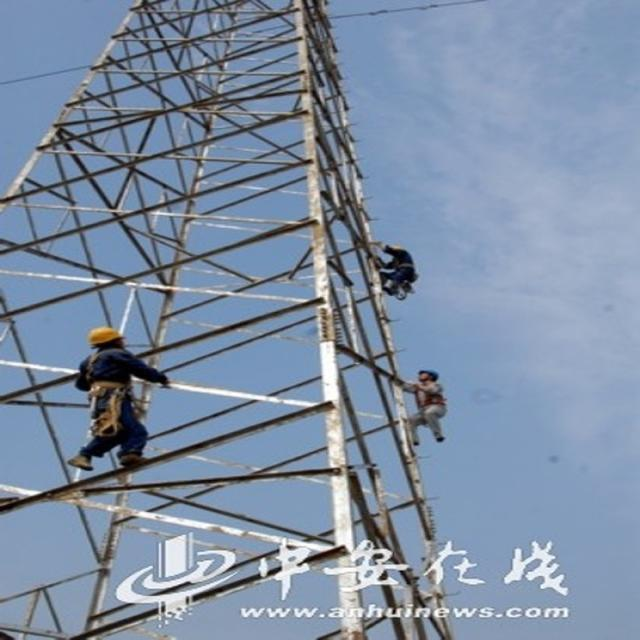non-critical vegetation: (6, 9, 473, 626)
